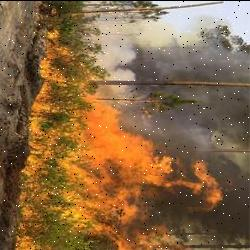fire: (17, 32, 210, 250)
